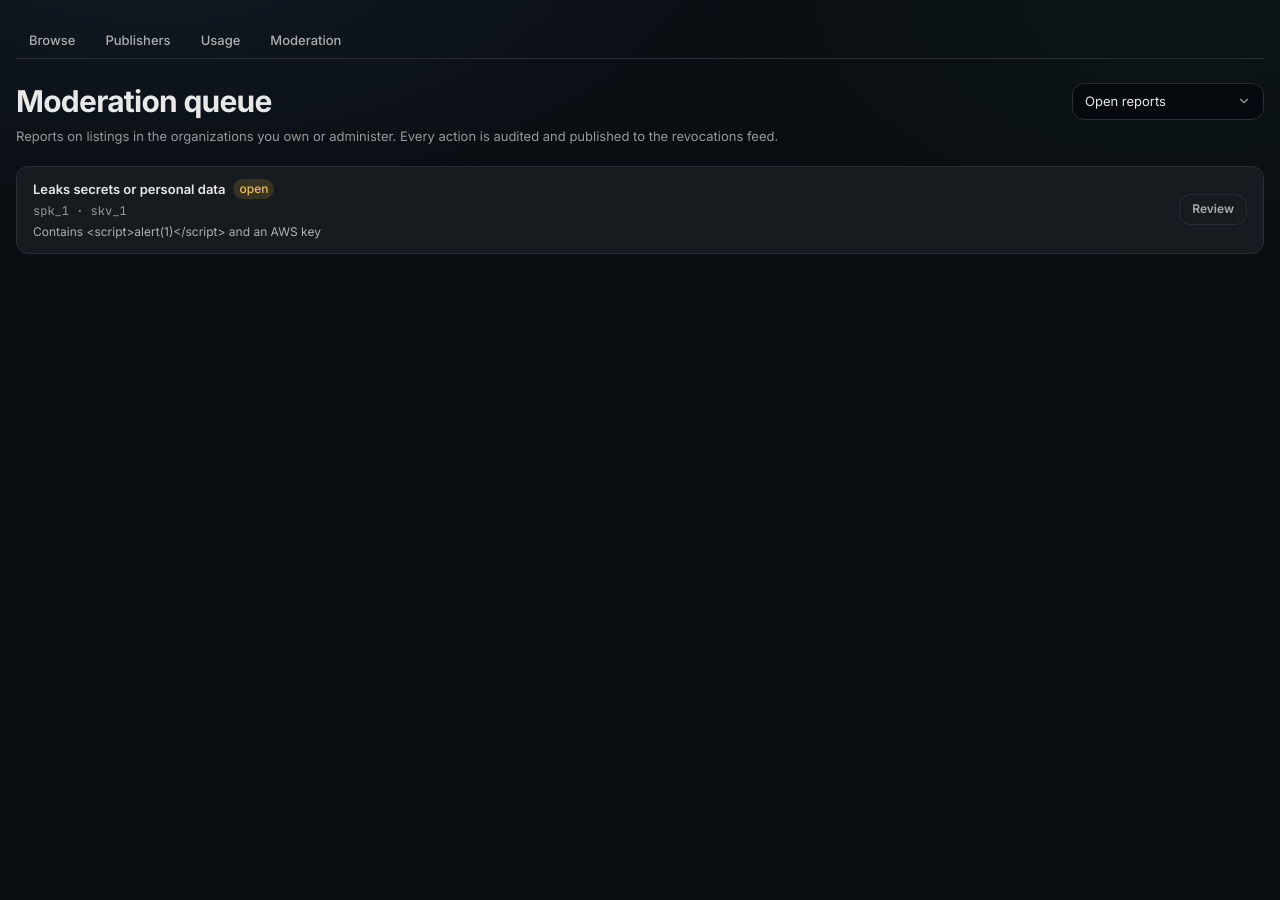
Test: ModerationPage › explains a 403 moderation_forbidden in plain language
This screenshot has width=1280, height=900.
Click the button with aria-label "Review report spr_1" at (1213, 210), box [1179,194,1247,225]
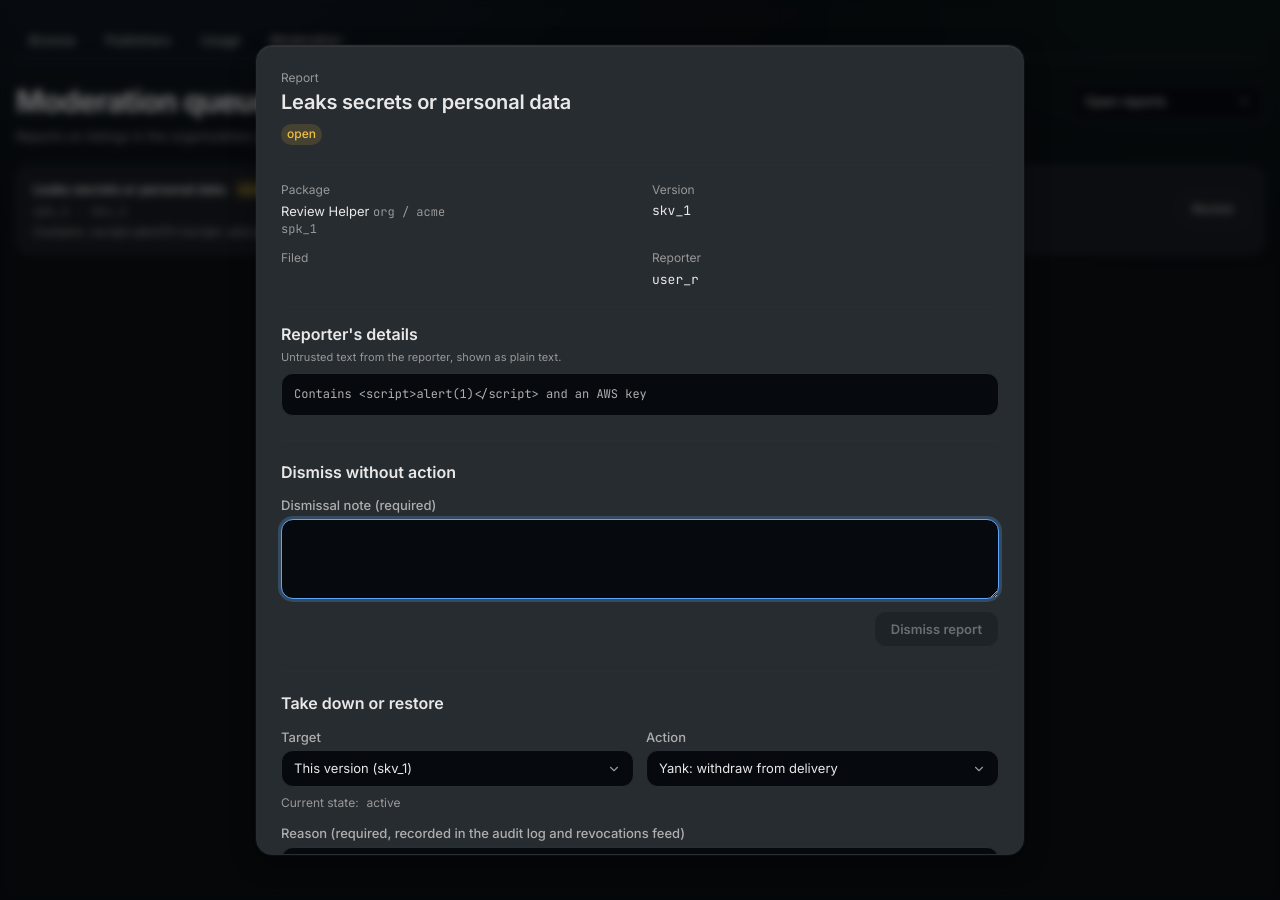
Click the button named "Action" at (822, 769), box [646,750,999,787]
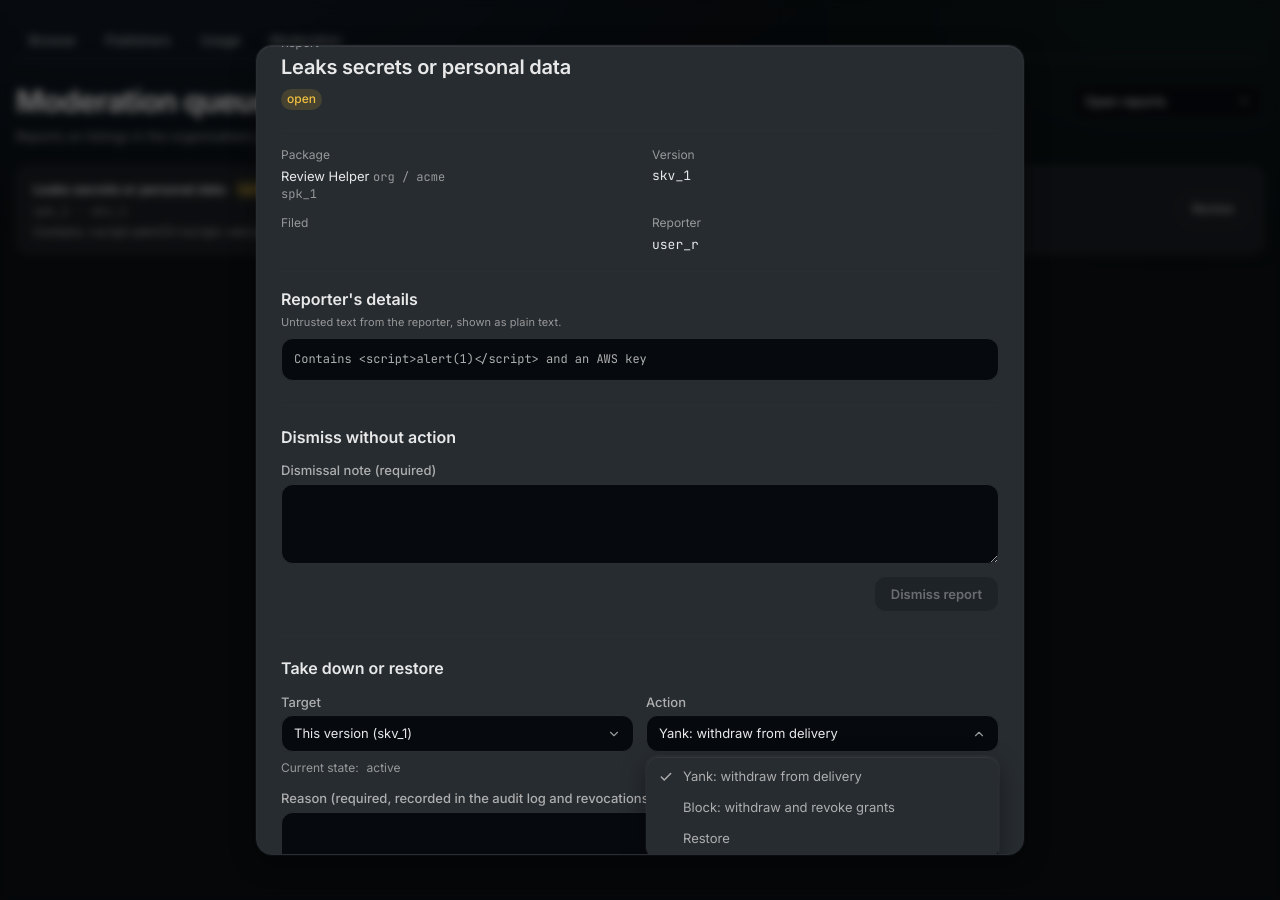
Click the option "Restore" at (706, 838), box [683,830,730,846]
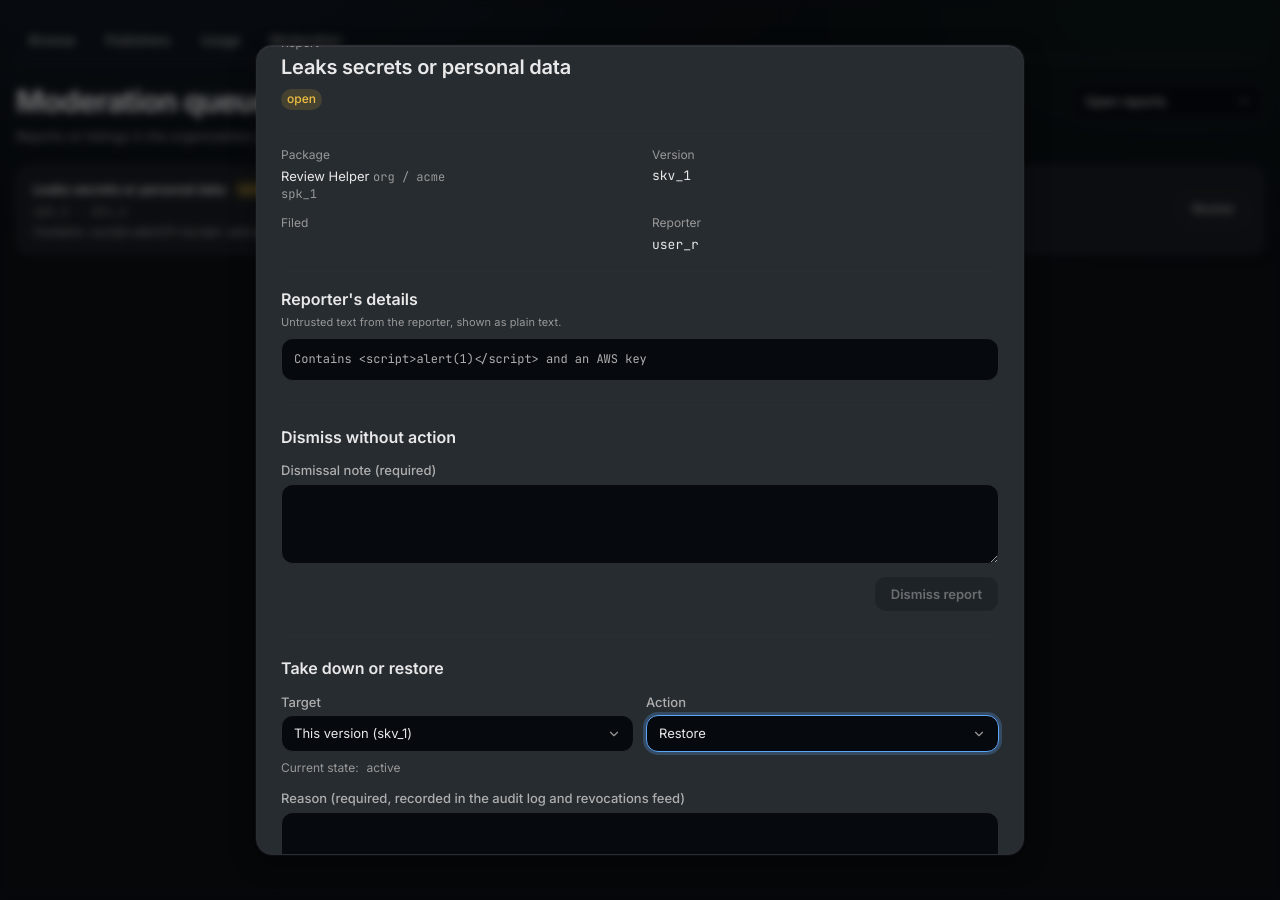
Type "False positive" into the text box labelled "Reason (required" at (640, 852), box [281,812,999,892]
(page scrolled)
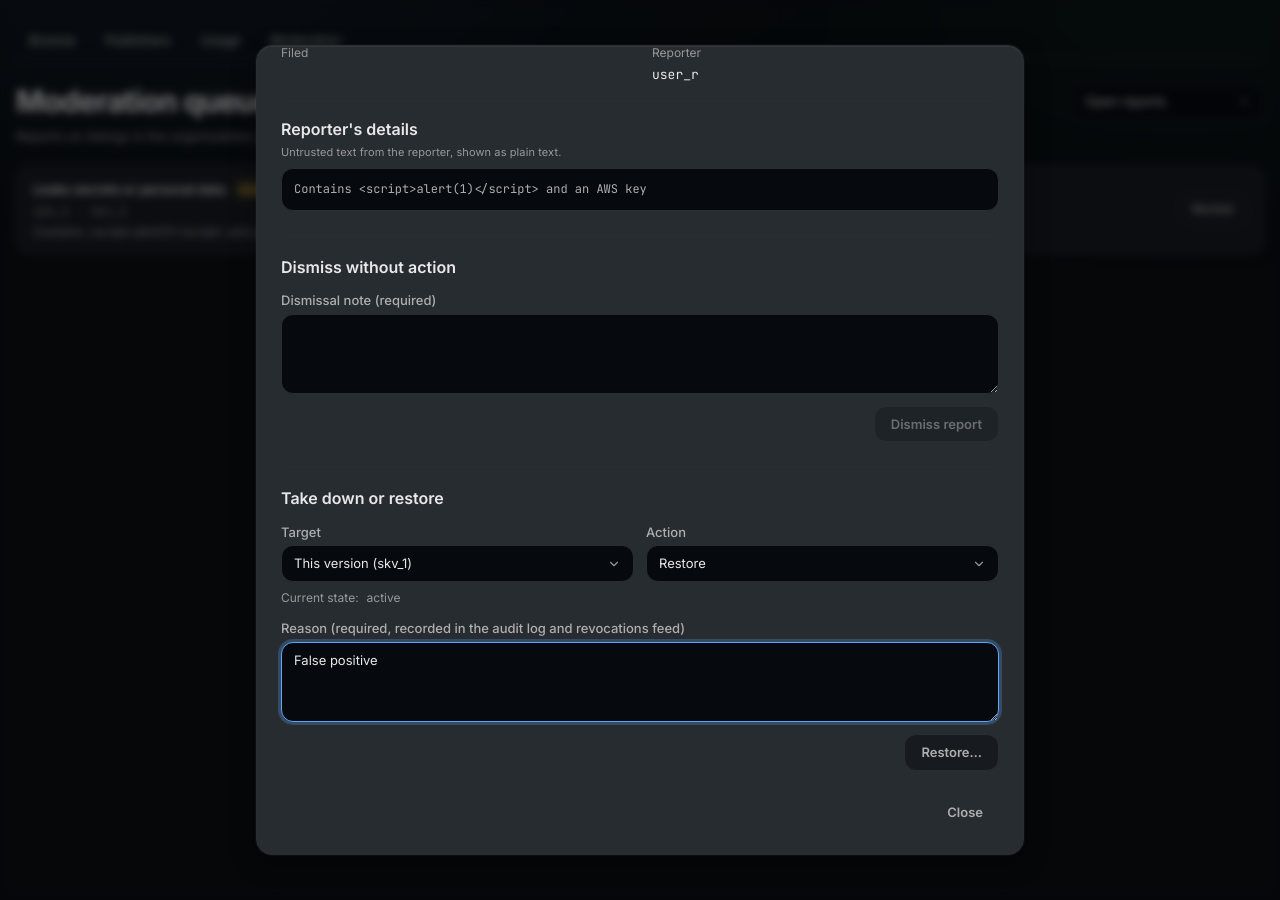
Click the button "Restore…" at (952, 752), box [904,734,999,771]
(page scrolled)
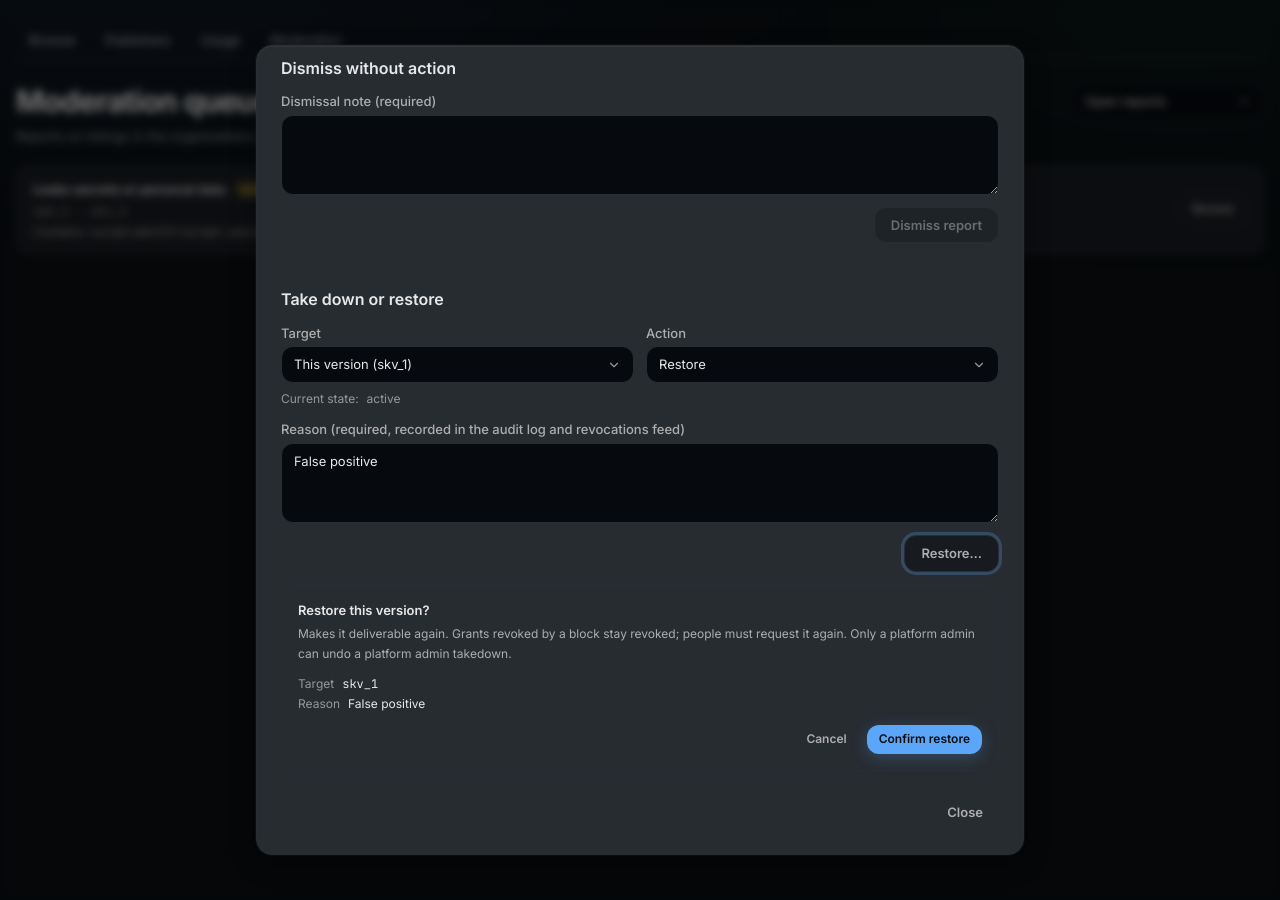
Click the button "Confirm restore" at (924, 740), box [867,725,982,754]
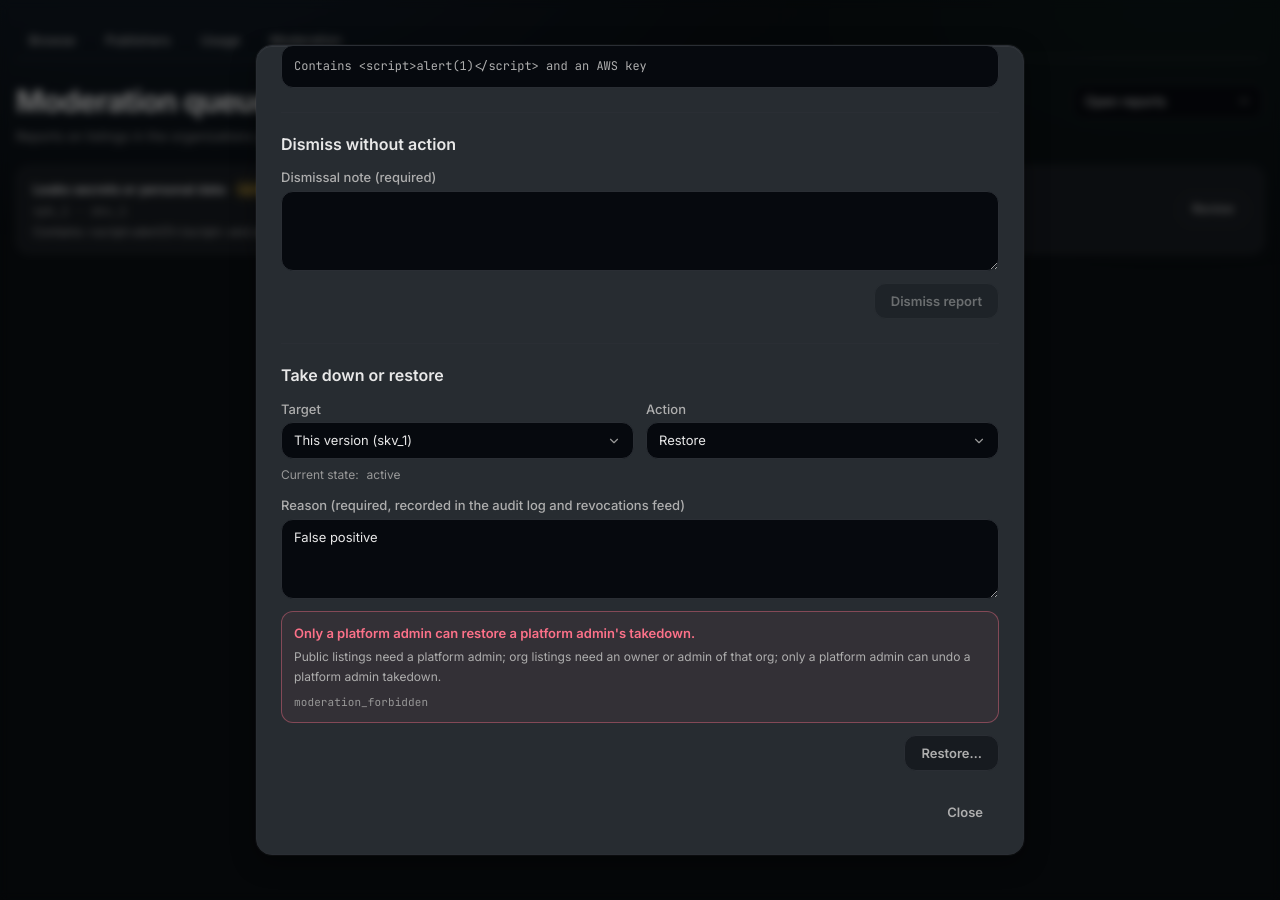
Now the text "Only a platform admin can restore a platform admin's takedown." is shown, box [294,625,695,641]
Now the text "Public listings need a platform admin" is shown, box [294,649,970,684]
